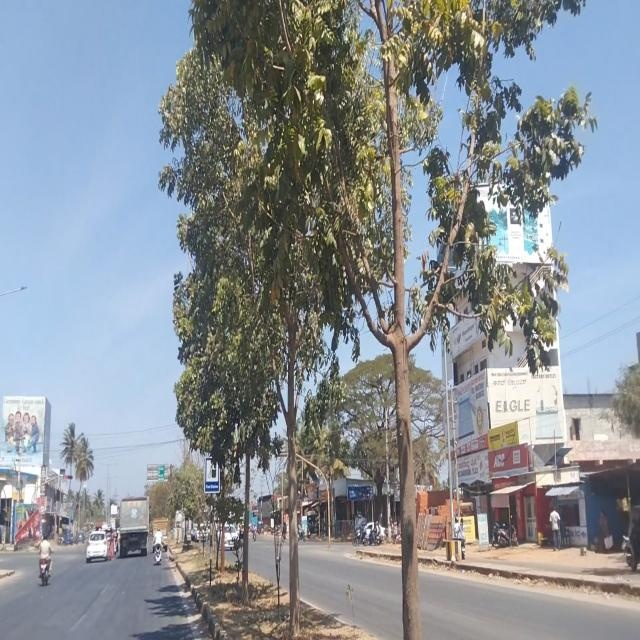bien_nguy_hiem: (202, 449, 221, 500)
